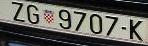-: (121, 26, 127, 30)
0: (89, 13, 103, 34)
7: (105, 15, 119, 36), (73, 11, 87, 31)
9: (58, 9, 72, 30)
G: (26, 4, 40, 25)
K: (129, 19, 144, 41)
Z: (12, 1, 25, 23)
